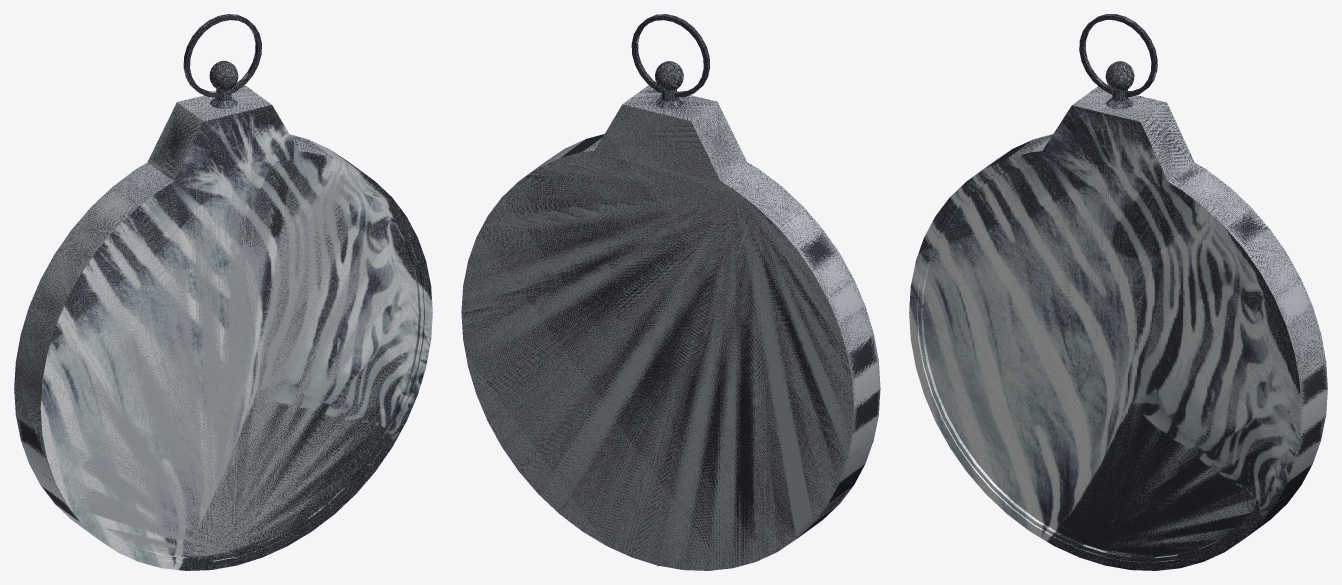
Rendered from prop_horloge_florestan.fbx.
3 renders of one model, left to right at view 1: azimuth 30°, elevation 25°; view 2: azimuth 150°, elevation 25°; view 3: azimuth 330°, elevation 25°, orthographic.
Parts seen in each view (by area): view 1: Group1, Group2, Group3; view 2: Group1, Group2, Group3; view 3: Group1, Group2, Group3.
Boxes of the visible parts, <box> form: Group1: <box>14,85,432,570</box>; Group2: <box>183,14,261,97</box>; Group3: <box>209,60,238,108</box>; Group1: <box>461,85,880,570</box>; Group2: <box>631,14,710,97</box>; Group3: <box>655,61,683,109</box>; Group1: <box>909,86,1327,570</box>; Group2: <box>1079,14,1157,97</box>; Group3: <box>1105,61,1134,109</box>.
Size of the model in its own units: 0.5966 by 0.7862 by 0.07.
